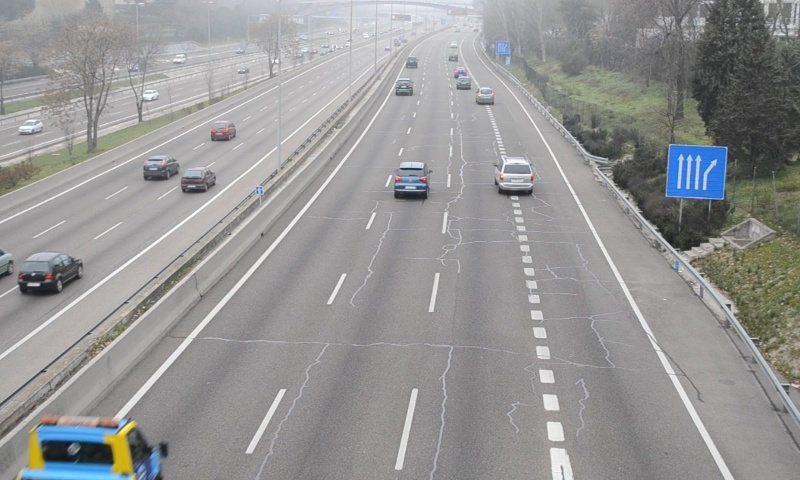car: (494, 156, 533, 193), (392, 162, 429, 196), (394, 78, 414, 96), (476, 86, 494, 105)
